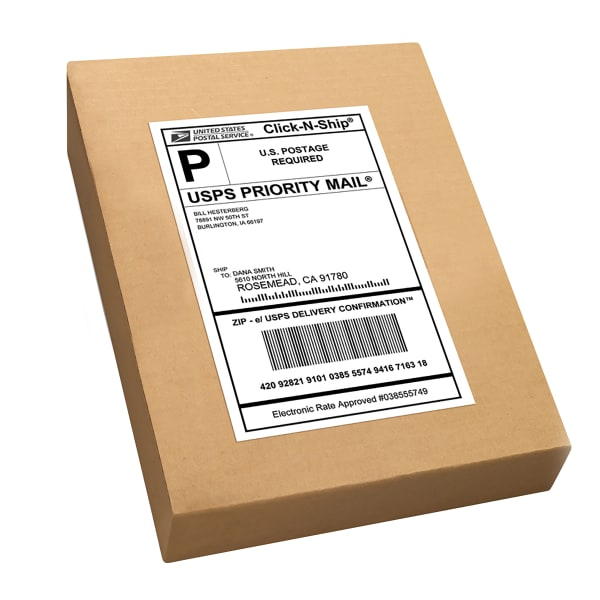parcel: (64, 42, 571, 565)
